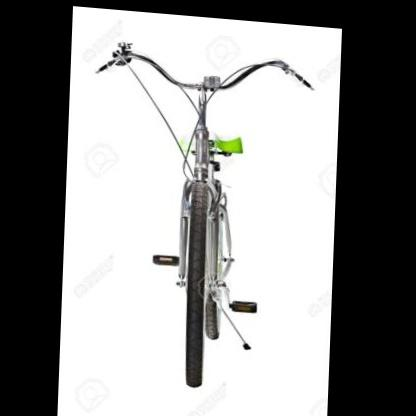Bicycle: (77, 36, 324, 399)
